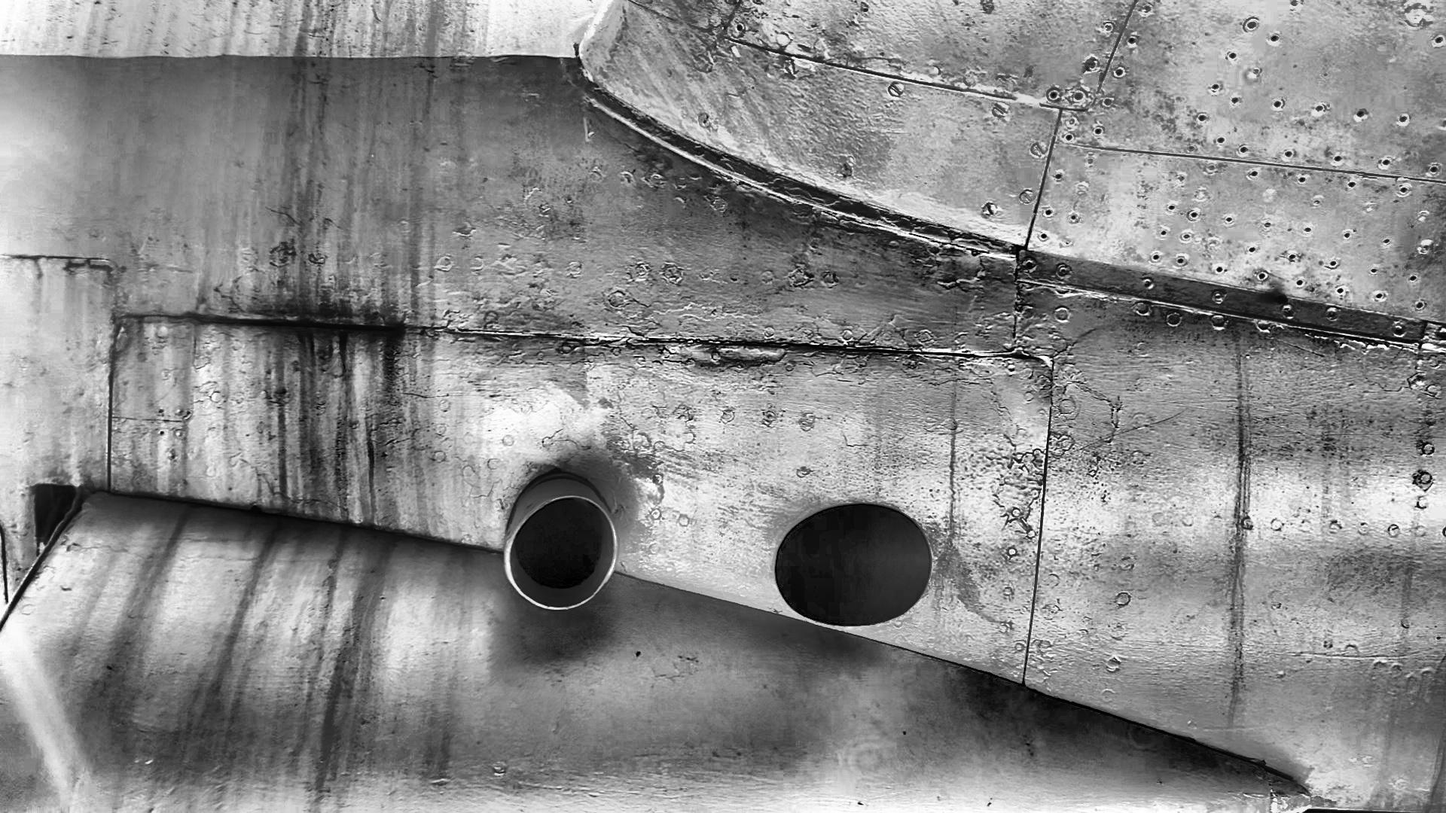crack: (32, 257, 44, 280)
dent: (717, 344, 786, 364)
missing-head: (1112, 66, 1127, 79), (1047, 87, 1060, 101), (1314, 102, 1326, 115), (1397, 115, 1411, 126), (1355, 108, 1367, 120), (1092, 126, 1104, 136), (1332, 154, 1344, 164), (1127, 35, 1138, 45), (1272, 100, 1284, 109), (1069, 212, 1079, 222), (1270, 33, 1280, 43), (1228, 51, 1238, 61), (1295, 278, 1305, 288), (1247, 244, 1257, 254), (1328, 258, 1338, 268), (1043, 208, 1054, 217), (1053, 172, 1064, 181), (1197, 113, 1208, 122), (1429, 164, 1438, 175), (1381, 158, 1392, 167), (1256, 272, 1267, 281), (1216, 136, 1226, 145), (1177, 257, 1187, 266), (1336, 286, 1346, 295), (1347, 180, 1357, 189), (1038, 233, 1049, 241), (1288, 251, 1296, 262), (1167, 203, 1176, 212), (736, 23, 744, 33), (1064, 134, 1074, 142), (1230, 97, 1240, 105), (1189, 211, 1199, 219), (1408, 274, 1418, 282), (1399, 187, 1409, 195), (1249, 171, 1260, 178), (1152, 253, 1160, 262), (1212, 83, 1220, 92), (1284, 151, 1293, 159), (1240, 146, 1249, 154), (1435, 36, 1443, 44), (1298, 175, 1306, 183), (1216, 265, 1223, 274), (1161, 228, 1167, 237)
paint-peel-off: (1307, 329, 1391, 353), (64, 258, 114, 277), (114, 321, 134, 355)
